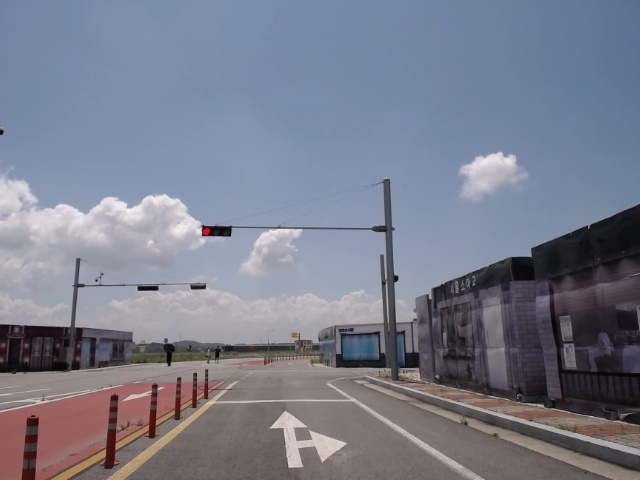red_3: (201, 226, 232, 238)
